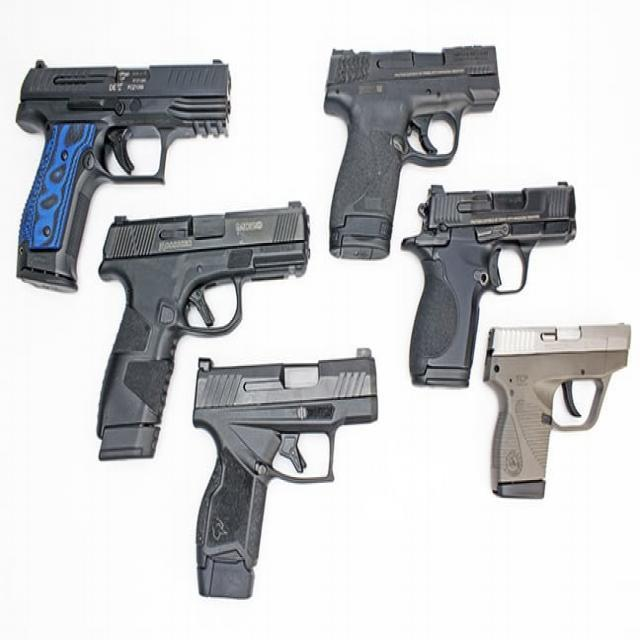pistol: (88, 186, 339, 474), (13, 44, 243, 304), (195, 335, 388, 596), (400, 175, 585, 406), (321, 27, 502, 261), (482, 317, 631, 501)
